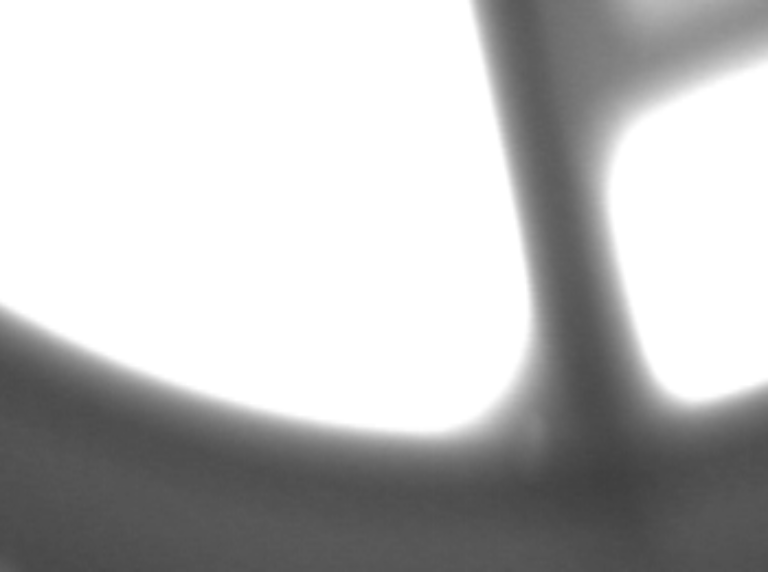defect: (518, 417, 560, 477)
